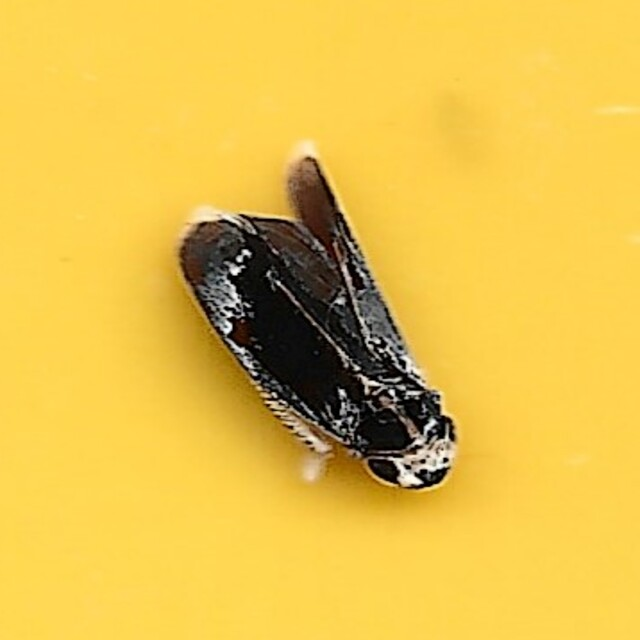Hemiptera: (179, 146, 461, 494)
